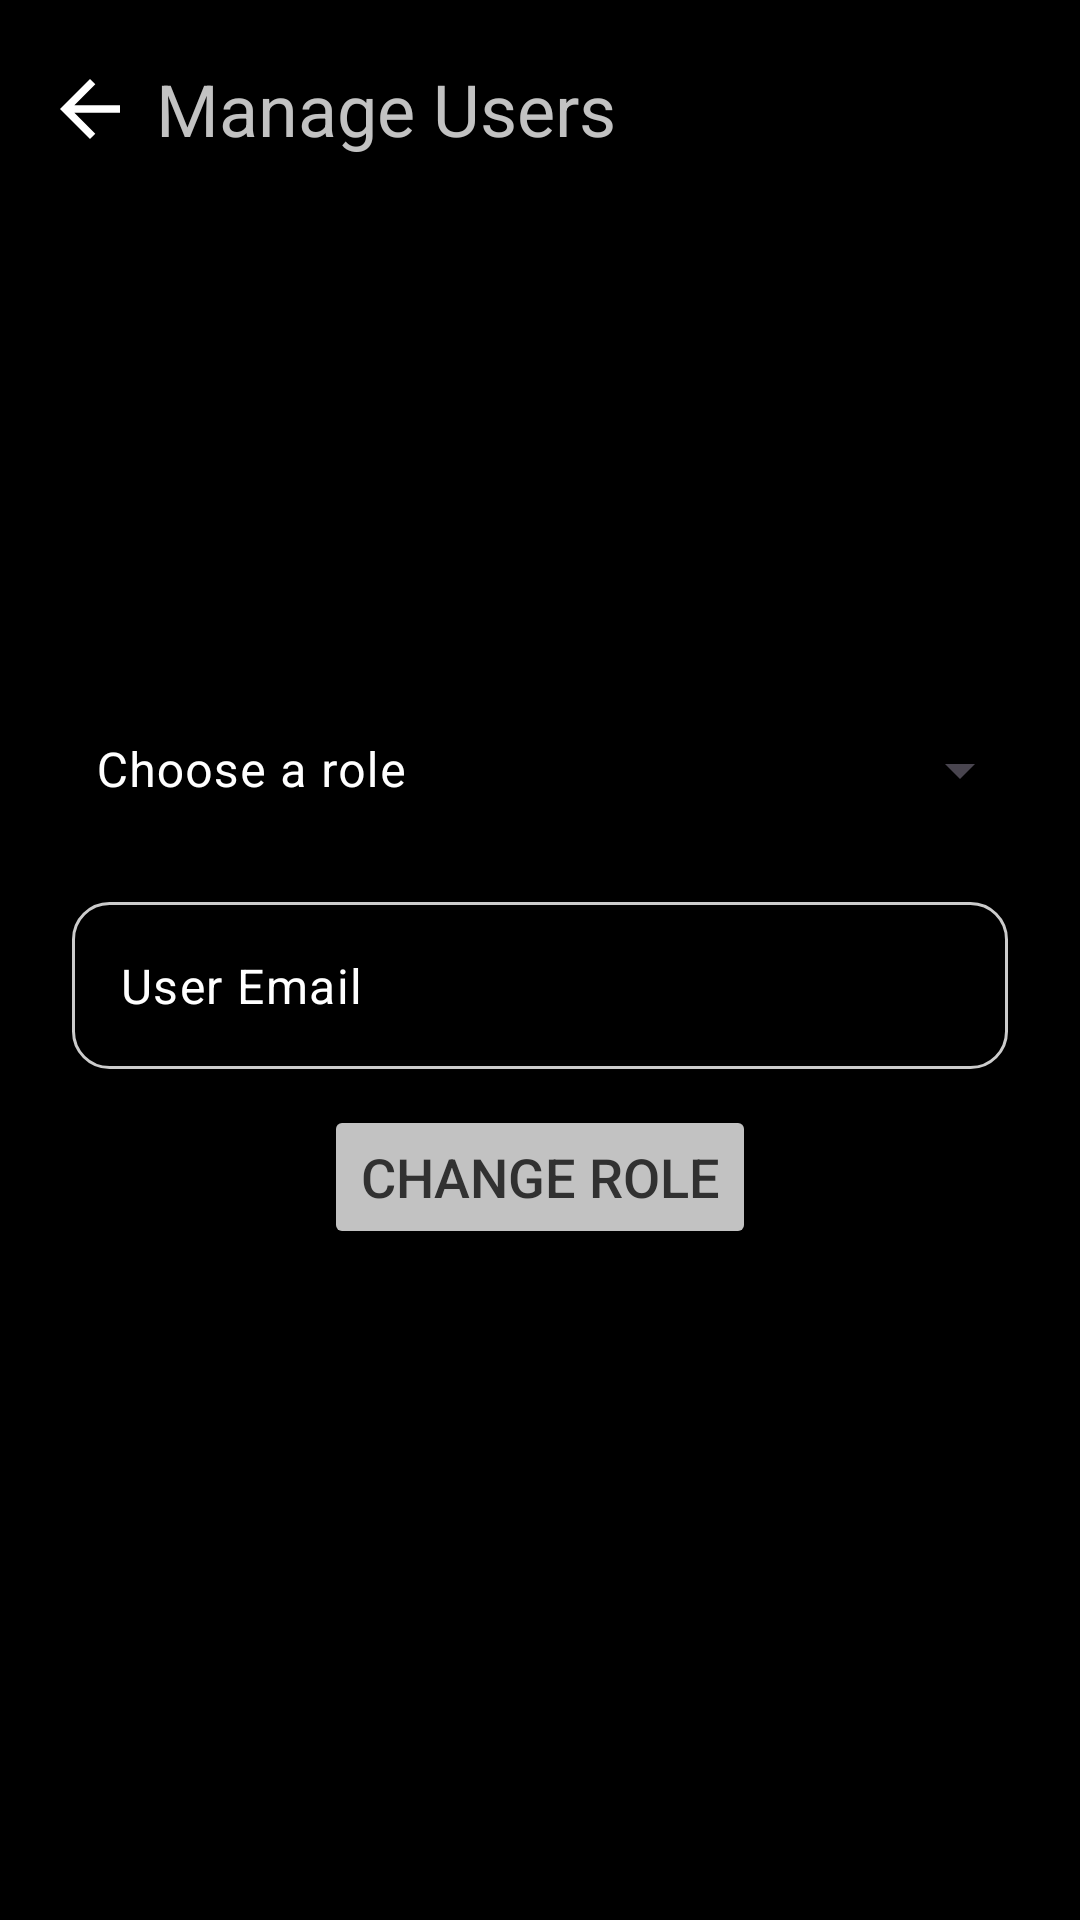

Screen size 1080 × 1920. Icon name, then its center in pixels as (x=x, y=y):
arrow back: (x=90, y=109)
